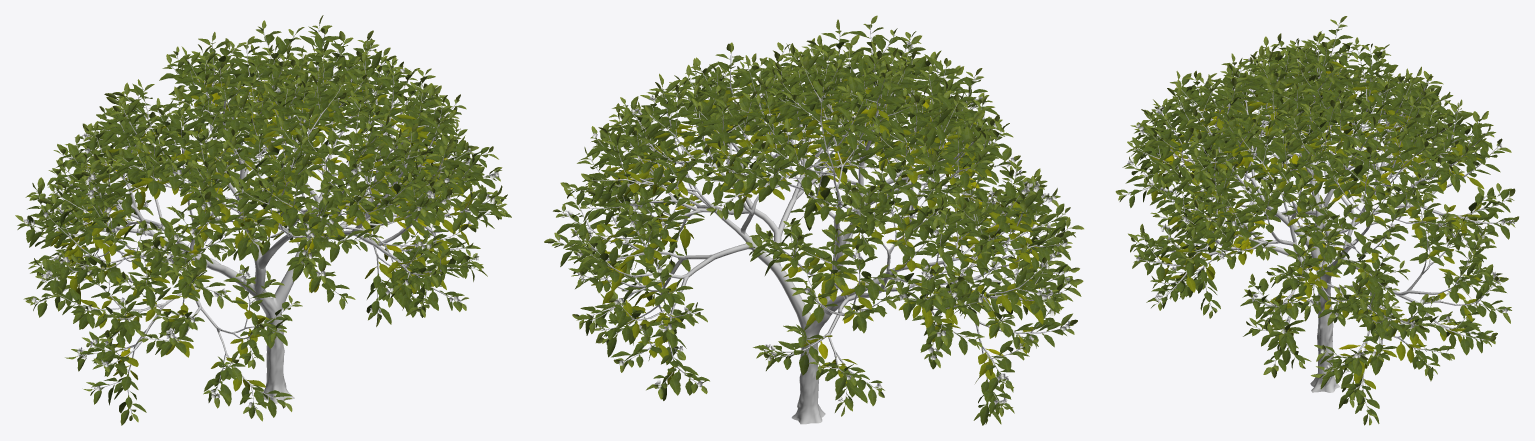
The model's file is Citrus_orange_25m_green.obj.
3 views of the same model, side by side, from view 1: azimuth 30°, elevation 25°; view 2: azimuth 150°, elevation 25°; view 3: azimuth 270°, elevation 25° (orthographic). The views are drawn at different scales.
Parts seen in each view (by area): view 1: Citrus_aurant_leaf_01, Citrus_aurant_leaf_04, Citrus_aurant_leaf_01_y1, Citrus_aurant_leaf_02, Citrus_aurantium_bark, Citrus_aurant_leaf_03, Citrus_aurantium_twig, Citrus_simple_flower, Citrus_aurant_leaf_01_y2; view 2: Citrus_aurant_leaf_01, Citrus_aurant_leaf_04, Citrus_aurant_leaf_01_y1, Citrus_aurantium_bark, Citrus_aurant_leaf_02, Citrus_aurant_leaf_03, Citrus_aurantium_twig, Citrus_simple_flower, Citrus_aurant_leaf_01_y2; view 3: Citrus_aurant_leaf_01, Citrus_aurant_leaf_04, Citrus_aurant_leaf_01_y1, Citrus_aurant_leaf_02, Citrus_aurantium_bark, Citrus_aurant_leaf_03, Citrus_aurantium_twig, Citrus_simple_flower, Citrus_aurant_leaf_01_y2.
Part boxes in pixels (x1,y1,x2,y2): Citrus_aurant_leaf_01: [17, 26, 511, 418]; Citrus_aurant_leaf_04: [15, 15, 507, 422]; Citrus_aurant_leaf_01_y1: [44, 66, 474, 391]; Citrus_aurant_leaf_02: [23, 31, 506, 425]; Citrus_aurantium_bark: [53, 65, 470, 403]; Citrus_aurant_leaf_03: [17, 25, 507, 413]; Citrus_aurantium_twig: [29, 27, 499, 413]; Citrus_simple_flower: [24, 67, 498, 407]; Citrus_aurant_leaf_01_y2: [78, 92, 471, 360]; Citrus_aurant_leaf_01: [556, 31, 1071, 425]; Citrus_aurant_leaf_04: [544, 15, 1083, 424]; Citrus_aurant_leaf_01_y1: [588, 62, 1045, 384]; Citrus_aurantium_bark: [589, 78, 1037, 424]; Citrus_aurant_leaf_02: [554, 27, 1081, 424]; Citrus_aurant_leaf_03: [552, 24, 1075, 420]; Citrus_aurantium_twig: [558, 25, 1069, 406]; Citrus_simple_flower: [560, 40, 1070, 404]; Citrus_aurant_leaf_01_y2: [609, 98, 1015, 358]; Citrus_aurant_leaf_01: [1125, 29, 1513, 423]; Citrus_aurant_leaf_04: [1115, 16, 1518, 425]; Citrus_aurant_leaf_01_y1: [1151, 61, 1484, 389]; Citrus_aurant_leaf_02: [1116, 29, 1511, 415]; Citrus_aurantium_bark: [1159, 55, 1481, 392]; Citrus_aurant_leaf_03: [1119, 24, 1511, 425]; Citrus_aurantium_twig: [1123, 24, 1508, 416]; Citrus_simple_flower: [1127, 57, 1514, 400]; Citrus_aurant_leaf_01_y2: [1163, 71, 1464, 349].
Size of what is drawn, in the model's own units: 3.32 by 2.54 by 2.79.
